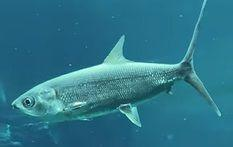Bangus: (12, 1, 222, 128)
